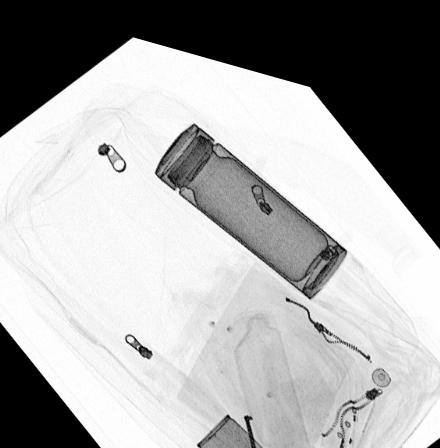Gun: (234, 398, 260, 448)
